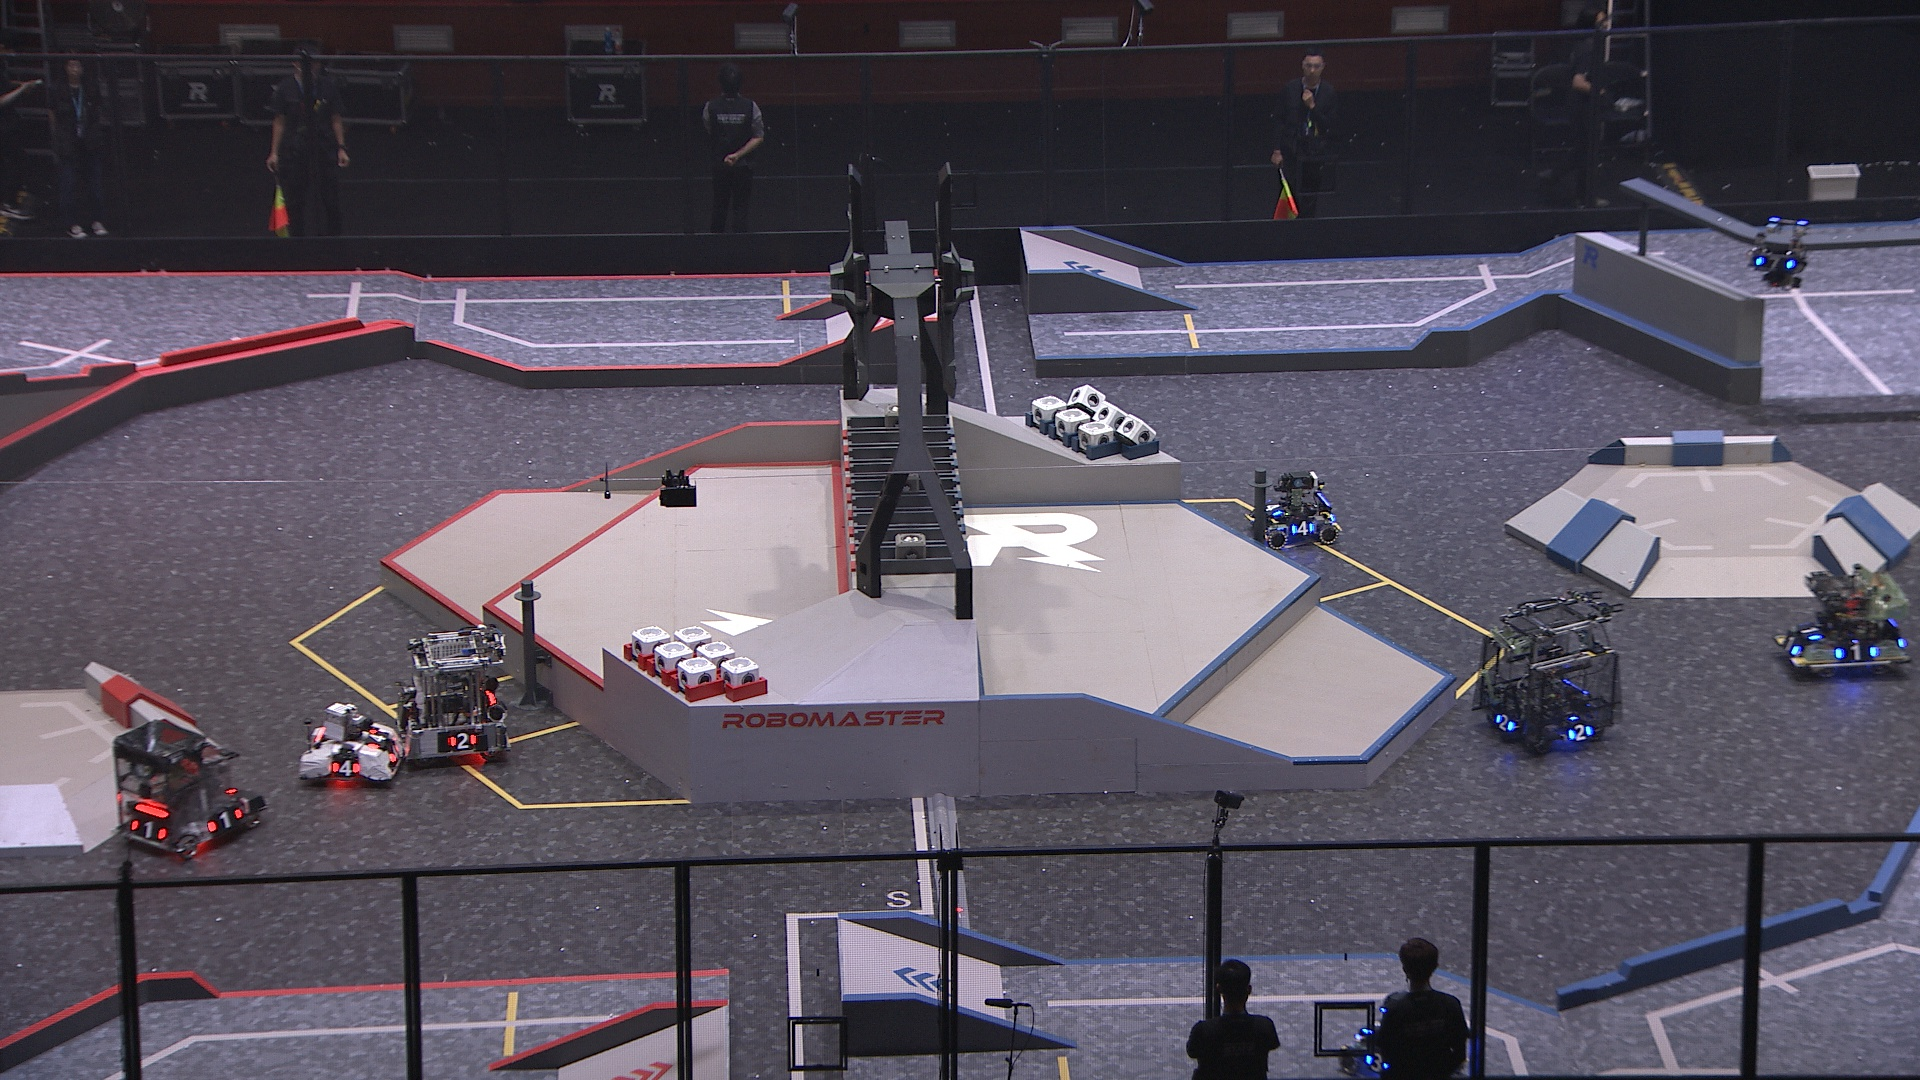armor: (129, 818, 169, 841), (206, 808, 243, 833), (1833, 645, 1882, 662), (1755, 255, 1795, 272), (446, 731, 480, 750), (328, 760, 363, 778), (1565, 723, 1594, 744), (1493, 712, 1516, 736), (1288, 520, 1316, 538), (1799, 622, 1822, 644), (1783, 632, 1804, 655), (1365, 1052, 1389, 1073), (386, 742, 404, 767), (367, 731, 386, 750), (1266, 501, 1282, 520)
car: (1476, 595, 1622, 756), (111, 719, 264, 862), (1771, 562, 1913, 679), (394, 626, 516, 760), (295, 702, 404, 785), (1338, 1002, 1444, 1080), (1247, 469, 1344, 551)
watcher: (1746, 216, 1812, 289)
